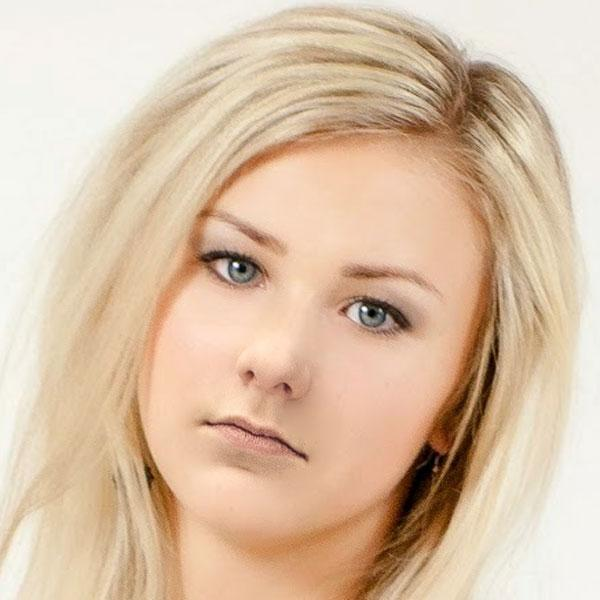Eyes: (326, 284, 418, 346), (189, 238, 275, 296)
